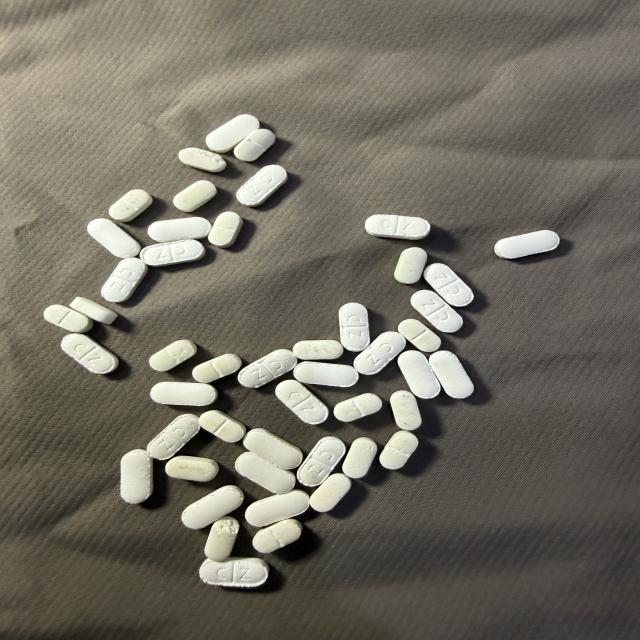pill: (182, 485, 244, 529), (235, 452, 295, 493), (243, 428, 302, 469), (297, 437, 345, 486), (147, 414, 199, 459), (245, 490, 309, 526), (238, 349, 297, 388), (276, 380, 328, 424), (61, 334, 118, 374), (411, 290, 462, 332), (354, 332, 405, 374), (429, 351, 473, 398), (87, 219, 140, 258), (424, 264, 473, 306), (237, 165, 287, 206), (200, 558, 268, 588), (101, 258, 147, 302), (206, 114, 259, 152), (398, 351, 440, 398), (495, 230, 559, 259), (150, 381, 217, 406), (121, 449, 152, 503), (253, 519, 302, 553), (294, 361, 358, 387), (141, 240, 205, 266), (310, 473, 351, 512), (148, 217, 211, 242), (365, 215, 430, 239), (205, 516, 239, 561), (199, 410, 246, 442), (149, 340, 197, 371), (380, 431, 418, 469), (339, 303, 369, 351), (398, 319, 441, 352), (109, 189, 152, 222), (342, 438, 377, 478), (173, 180, 216, 212), (192, 354, 241, 382), (44, 305, 92, 333), (334, 393, 382, 421), (165, 456, 218, 481), (234, 129, 275, 161), (69, 297, 117, 324), (209, 211, 243, 248), (390, 391, 421, 430), (395, 247, 427, 284), (178, 148, 226, 172), (293, 340, 343, 360)
